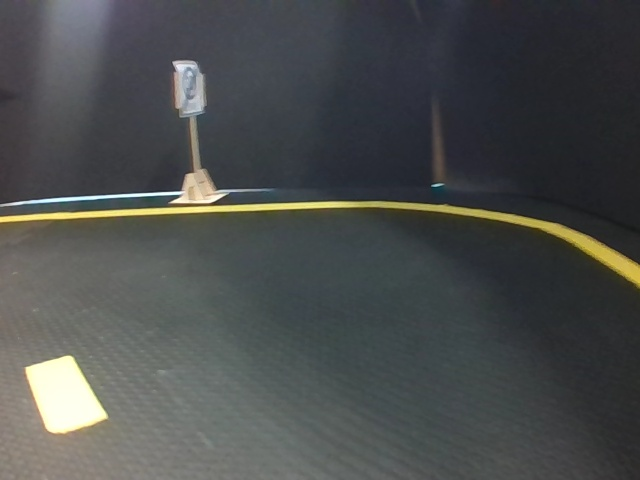no30: (177, 61, 204, 114)
